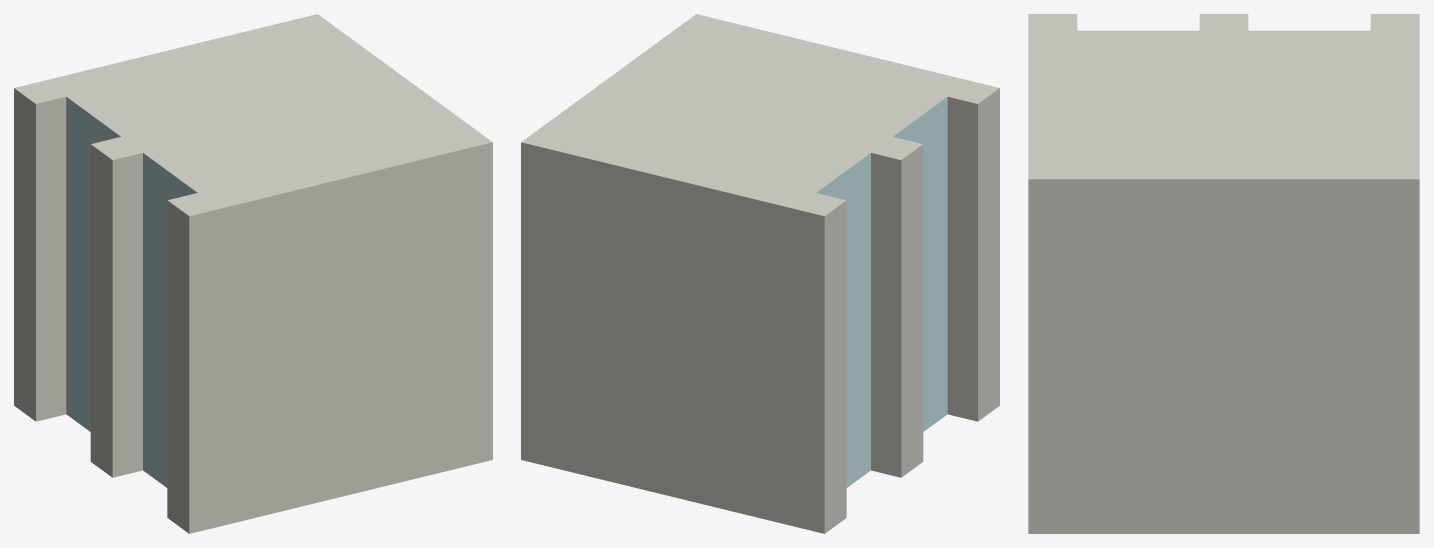
The model's file is Building Story 1.fbx.
3 renders of one model, left to right at view 1: azimuth 30°, elevation 25°; view 2: azimuth 150°, elevation 25°; view 3: azimuth 270°, elevation 25°, orthographic. The views are drawn at different scales.
Parts seen in each view (by area): view 1: Building Story 1; view 2: Building Story 1; view 3: Building Story 1.
Part boxes in pixels (left/top/right/bottom): Building Story 1: left=14, top=14, right=492, bottom=533; Building Story 1: left=521, top=14, right=999, bottom=533; Building Story 1: left=1028, top=14, right=1419, bottom=533.
Size of the model in its own units: 1 by 1 by 1.
